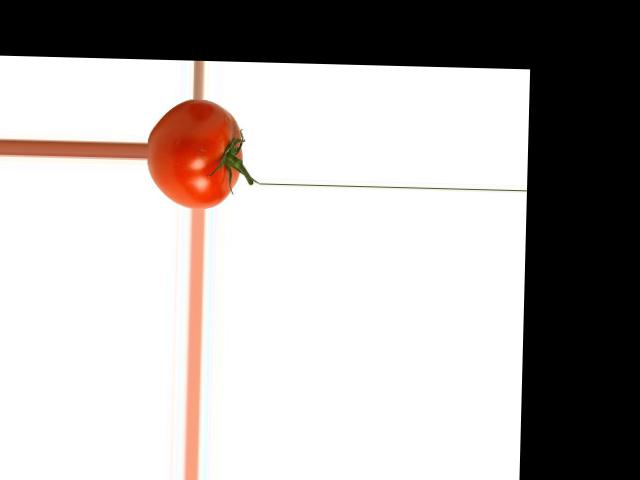tomato: (147, 97, 244, 209)
